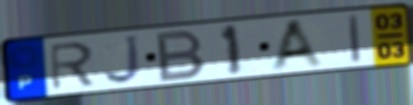1: (216, 23, 245, 78)
A: (269, 16, 328, 71)
B: (155, 27, 208, 84)
I: (346, 12, 363, 65)
J: (102, 33, 144, 86)
R: (47, 40, 98, 92)
